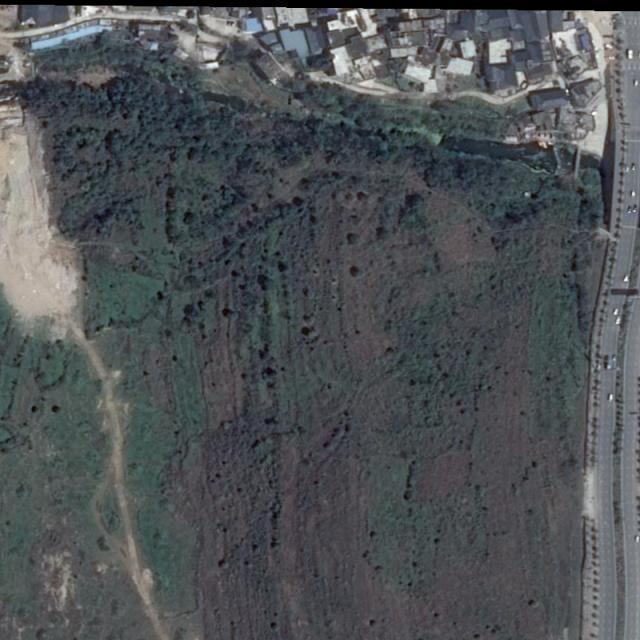vehicle: (622, 270, 632, 285), (606, 390, 614, 405), (626, 47, 634, 61), (612, 306, 621, 318), (632, 202, 639, 215), (627, 205, 634, 216), (630, 189, 638, 198), (631, 163, 637, 172), (633, 78, 639, 87)
